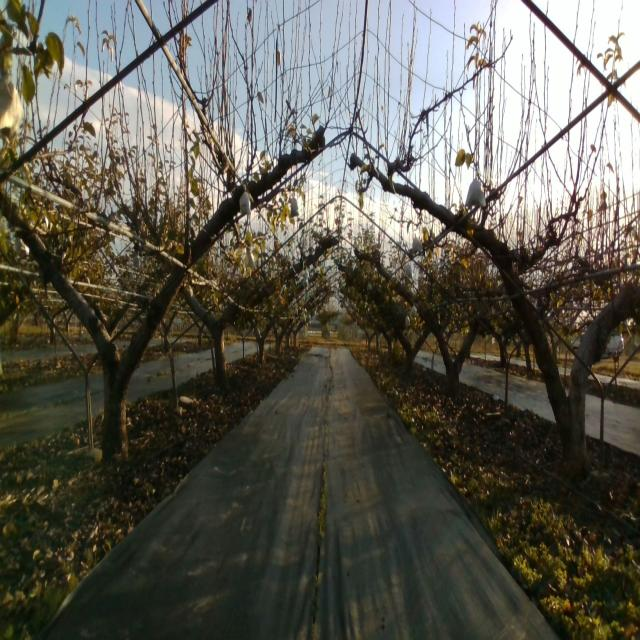pearbags: (0, 78, 24, 137), (465, 178, 486, 210), (240, 183, 252, 217), (288, 196, 300, 218), (412, 234, 423, 254)
